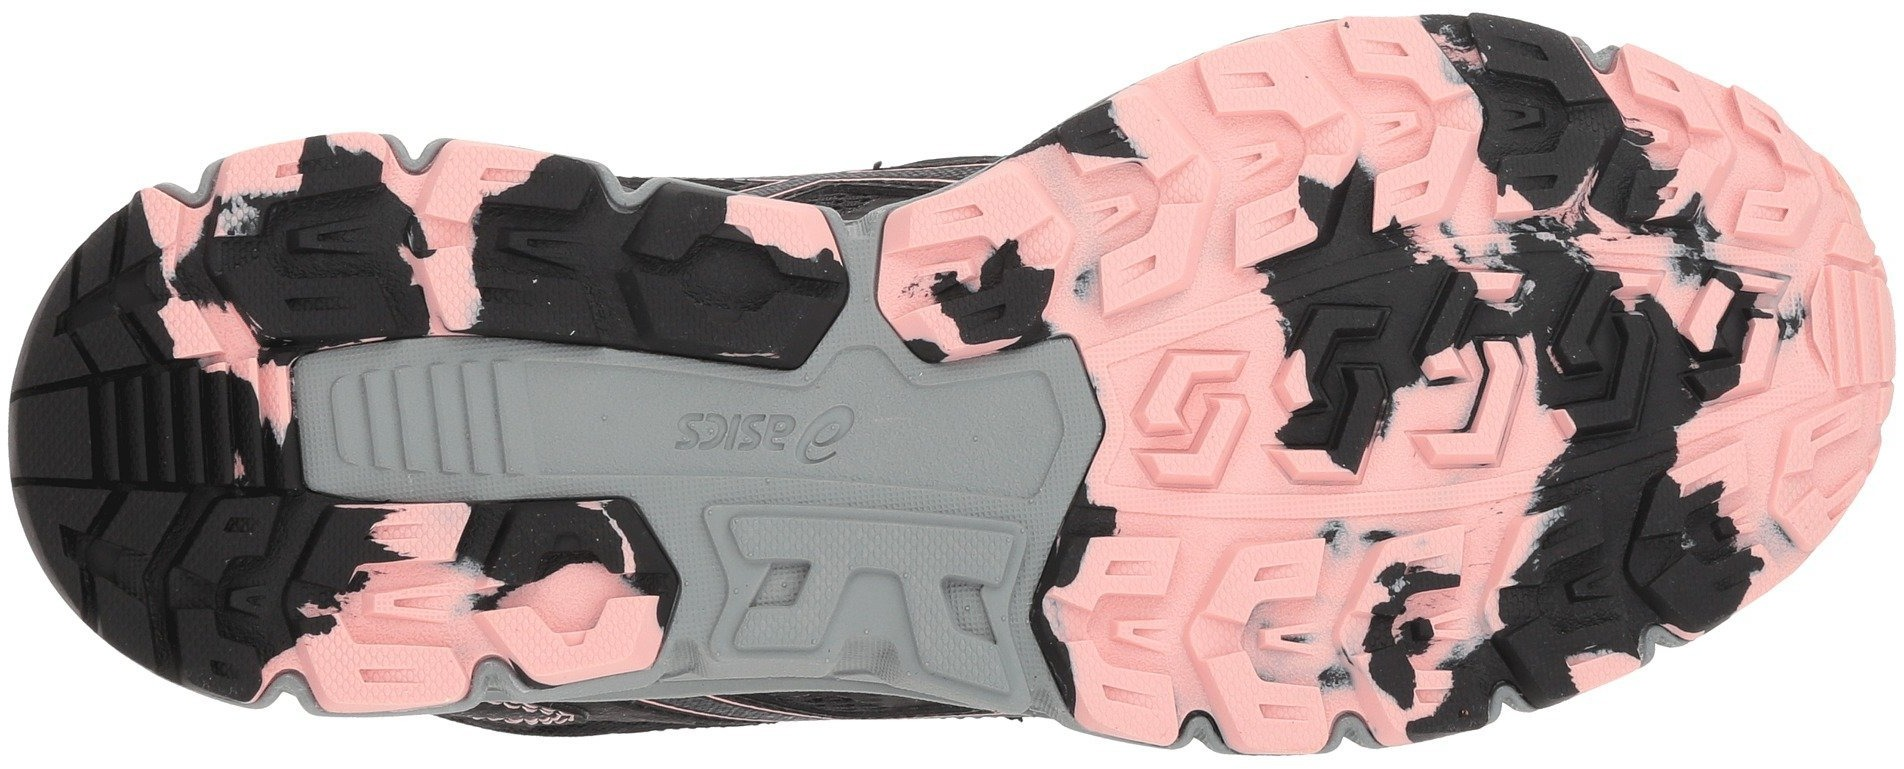chevron: (1203, 15, 1506, 298), (1263, 238, 1546, 505), (1056, 484, 1331, 754), (601, 183, 856, 415), (195, 131, 407, 354), (279, 499, 501, 709), (1648, 250, 1817, 426), (1099, 339, 1269, 503)
exclude: (551, 0, 1038, 216)
other: (903, 392, 1039, 507)
quad: (138, 349, 305, 509), (348, 338, 503, 494)
text: (731, 400, 801, 467), (667, 398, 733, 465)
